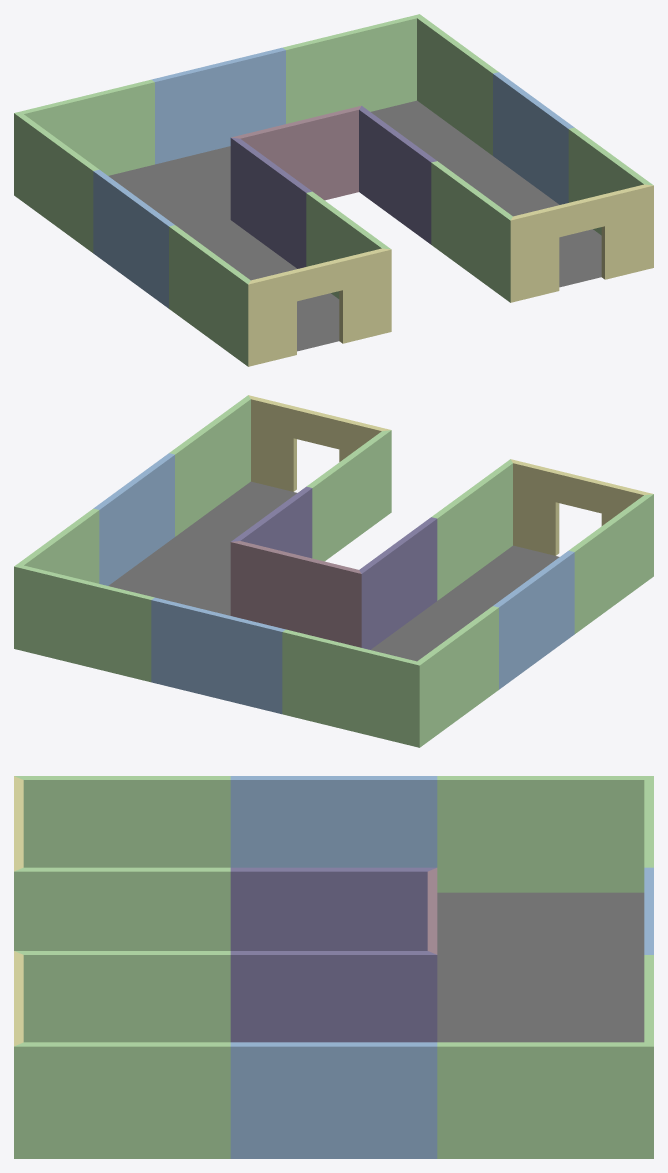
The model's file is SML and H Rooms 2 _Horseshoe_Room.fbx.
3 renders of one model, top to bottom at view 1: azimuth 30°, elevation 25°; view 2: azimuth 150°, elevation 25°; view 3: azimuth 270°, elevation 25°, orthographic. The views are drawn at different scales.
Parts seen in each view (by area): view 1: Floor(15x15).006; view 2: Floor(15x15).006; view 3: Floor(15x15).006.
Part boxes in pixels (x1,y1,x2,y2): Floor(15x15).006: (14,14,653,366); Floor(15x15).006: (14,395,653,747); Floor(15x15).006: (14,776,653,1158).
Size of the model in its own units: 4641 by 900 by 4641.
